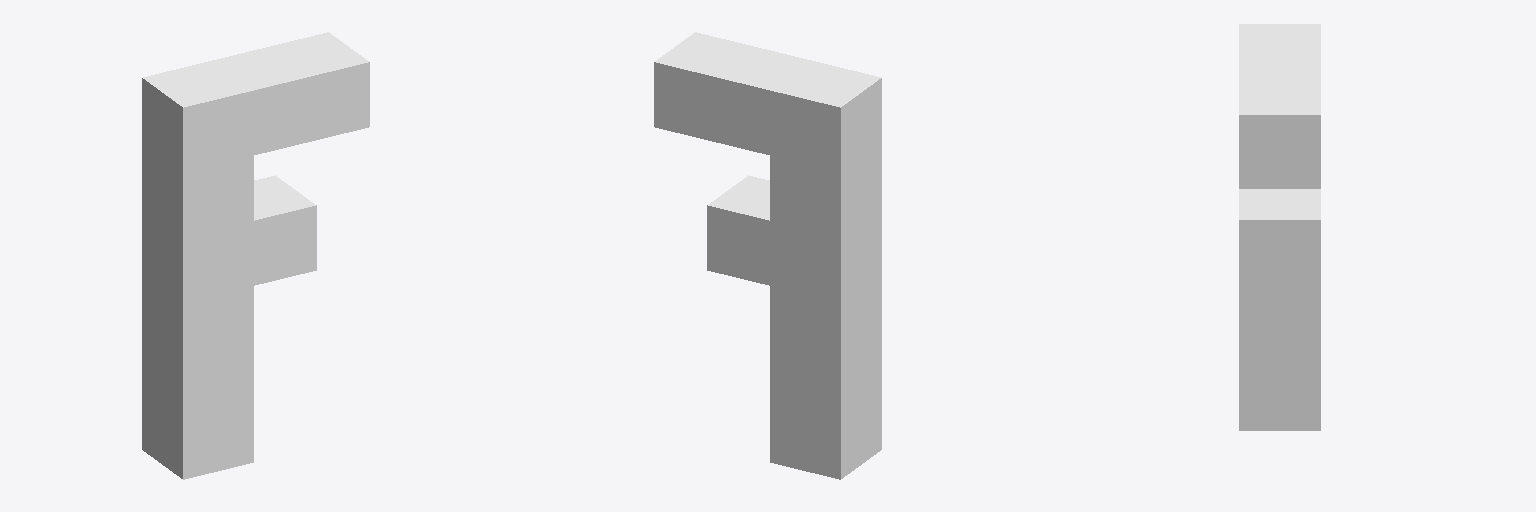
File: LetterF.obj
The picture shows the model from 3 angles: view 1: azimuth 30°, elevation 25°; view 2: azimuth 150°, elevation 25°; view 3: azimuth 270°, elevation 25°; orthographic projection.
Parts seen in each view (by area): view 1: object 1; view 2: object 1; view 3: object 1.
Boxes of the visible parts, x1=… form: object 1: x1=142, y1=32, x2=369, y2=479; object 1: x1=654, y1=32, x2=881, y2=479; object 1: x1=1239, y1=24, x2=1320, y2=430.
Size of the model in its own units: 2.1 by 4 by 0.8.